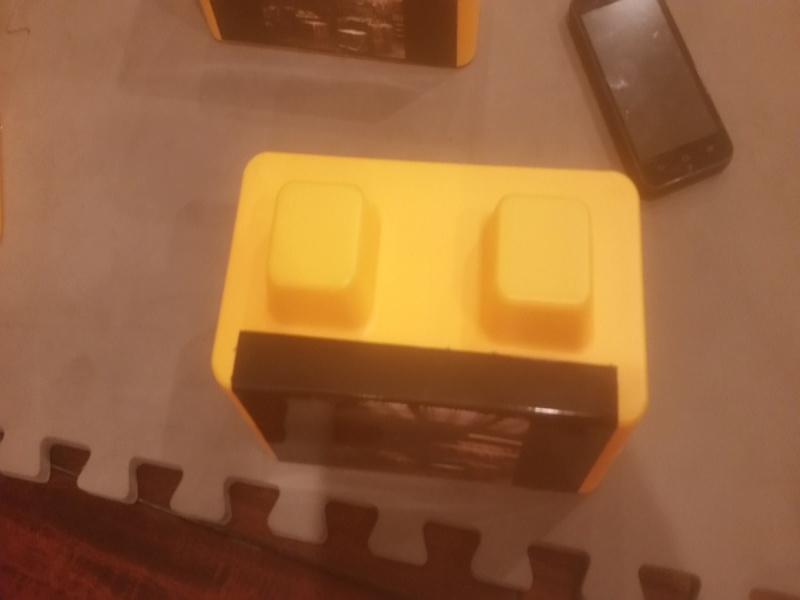Skystone: (202, 145, 664, 518), (188, 1, 481, 76)
